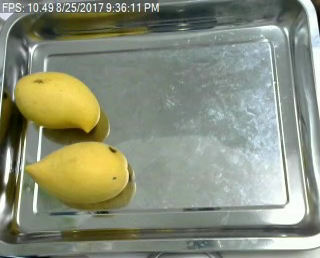Mango: (26, 134, 128, 204), (9, 63, 107, 131)
